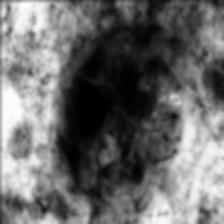Potentially Malignant Skin Tumors: (38, 30, 170, 165)
